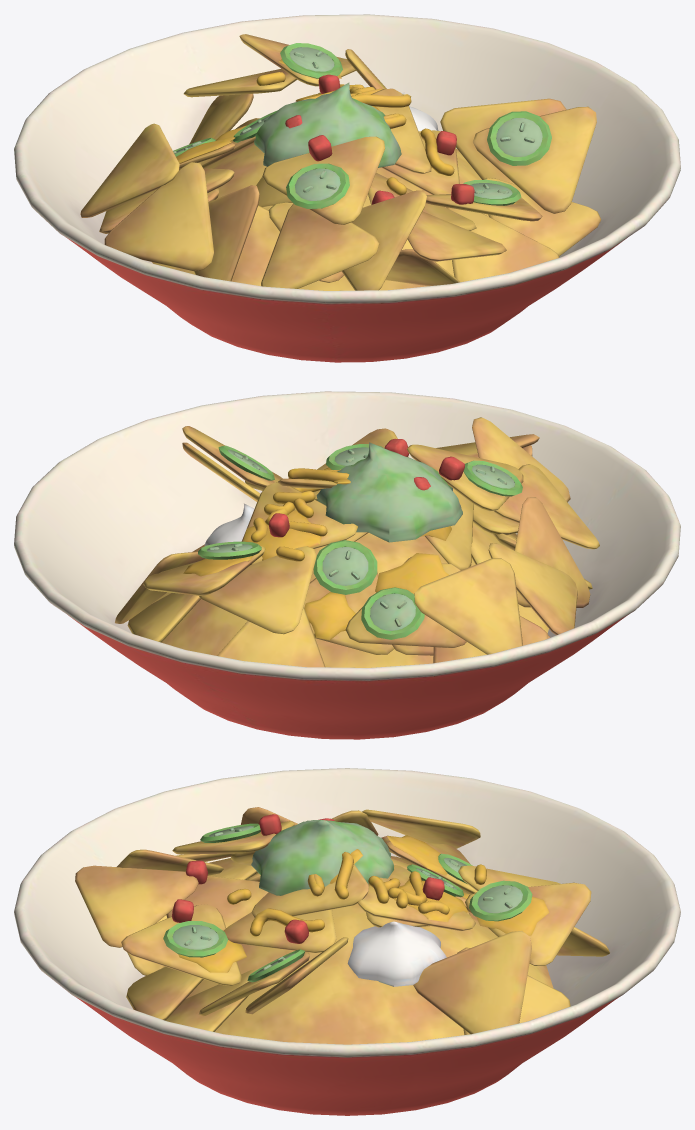
File: nachos.glb
3 views of the same model, one above another, from view 1: azimuth 30°, elevation 25°; view 2: azimuth 150°, elevation 25°; view 3: azimuth 270°, elevation 25° (orthographic).
Visible parts, largest first — view 1: nachos_body; view 2: nachos_body; view 3: nachos_body.
Part boxes in pixels (<box>): nachos_body: <box>14,14,680,362</box>; nachos_body: <box>14,391,680,739</box>; nachos_body: <box>14,768,680,1115</box>.
Bounding box in the file's own units: 0.23 × 0.0828 × 0.23.
1 material, 1 textured.
